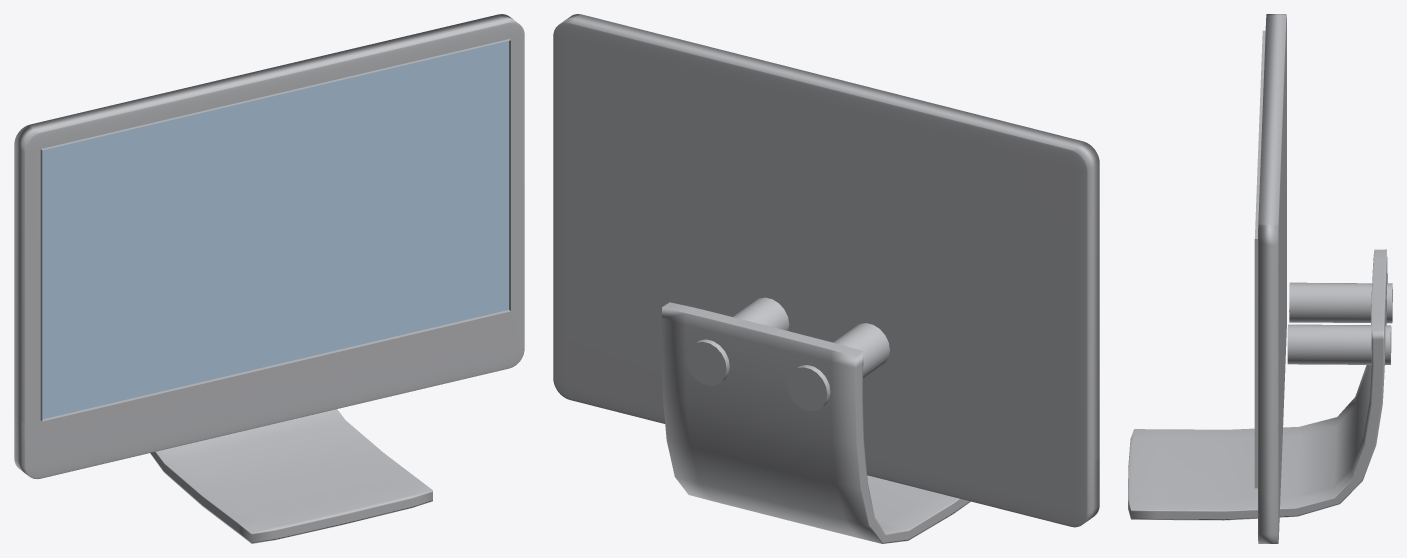
3 views of the same model, side by side, from view 1: azimuth 30°, elevation 25°; view 2: azimuth 150°, elevation 25°; view 3: azimuth 270°, elevation 25° (orthographic). The views are drawn at different scales.
Parts seen in each view (by area): view 1: screen, bottompartmonitor, toppartmonitor, support; view 2: toppartmonitor, support, bottompartmonitor, supportpiece2, supporpiece1; view 3: support, toppartmonitor, supporpiece1, supportpiece2, bottompartmonitor.
Part boxes in pixels (bbox=[...]): screen: bbox=[42, 41, 508, 419]; bottompartmonitor: bbox=[14, 306, 524, 479]; toppartmonitor: bbox=[14, 14, 524, 423]; support: bbox=[150, 409, 432, 543]; toppartmonitor: bbox=[553, 14, 1099, 466]; support: bbox=[661, 302, 970, 543]; bottompartmonitor: bbox=[553, 332, 1099, 527]; supportpiece2: bbox=[787, 323, 889, 411]; supporpiece1: bbox=[686, 297, 789, 385]; support: bbox=[1128, 249, 1387, 520]; toppartmonitor: bbox=[1254, 14, 1286, 495]; supporpiece1: bbox=[1287, 324, 1391, 364]; supportpiece2: bbox=[1289, 282, 1392, 323]; bottompartmonitor: bbox=[1258, 284, 1286, 543].
Bounding box in the file's own units: 0.9326 × 0.7067 × 0.469.
